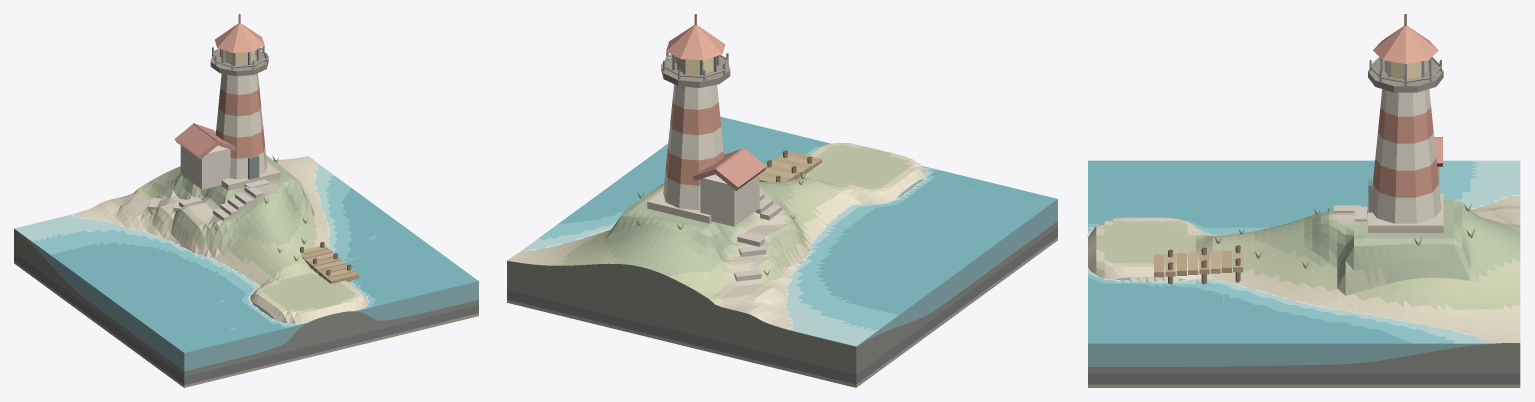
3 renders of one model, left to right at view 1: azimuth 30°, elevation 25°; view 2: azimuth 150°, elevation 25°; view 3: azimuth 270°, elevation 25°, orthographic. The views are drawn at different scales.
Parts seen in each view (by area): view 1: proc_water, proc_ground, proc_structure, proc_skirt, proc_water_side, proc_steps, proc_foam; view 2: proc_water, proc_ground, proc_skirt, proc_structure, proc_water_side, proc_steps; view 3: proc_water, proc_ground, proc_structure, proc_skirt, proc_water_side, proc_glow, proc_foam.
Boxes of the visible parts, <box> form: proc_water: <box>14,164,478,352</box>; proc_ground: <box>72,155,367,323</box>; proc_structure: <box>174,14,359,283</box>; proc_skirt: <box>14,229,478,387</box>; proc_water_side: <box>14,228,478,371</box>; proc_steps: <box>147,186,263,221</box>; proc_foam: <box>70,168,368,324</box>; proc_water: <box>519,116,1057,346</box>; proc_ground: <box>507,143,926,329</box>; proc_skirt: <box>507,221,1057,387</box>; proc_structure: <box>647,14,821,226</box>; proc_water_side: <box>794,199,1057,347</box>; proc_steps: <box>734,193,781,281</box>; proc_water: <box>1088,160,1520,343</box>; proc_ground: <box>1088,196,1520,343</box>; proc_structure: <box>1154,14,1443,284</box>; proc_skirt: <box>1088,343,1520,387</box>; proc_water_side: <box>1088,343,1490,366</box>; proc_glow: <box>1384,60,1426,79</box>; proc_foam: <box>1086,195,1520,339</box>.
Size of the model in its own units: 8 by 6.18 by 8.03.
